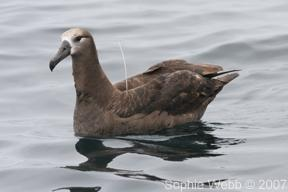001.Black_footed_Albatross: (47, 24, 242, 138)
